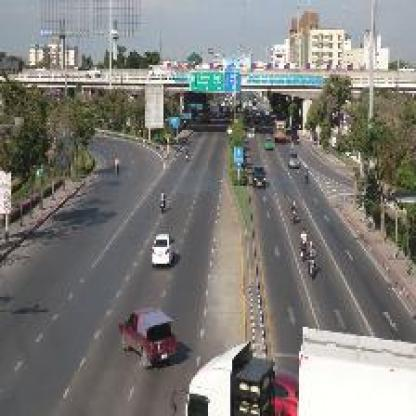other: (273, 363, 298, 406)
